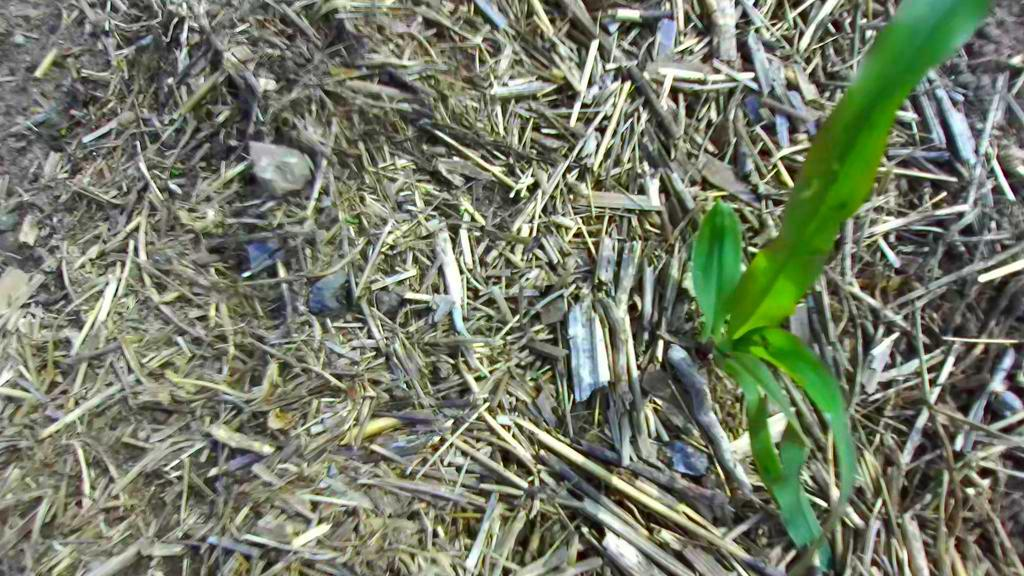BroWeed: (264, 405, 291, 432), (116, 56, 130, 81), (199, 90, 219, 104), (206, 223, 225, 237), (173, 160, 187, 171), (345, 217, 360, 224), (169, 168, 182, 176), (59, 127, 67, 135), (392, 468, 400, 473)
